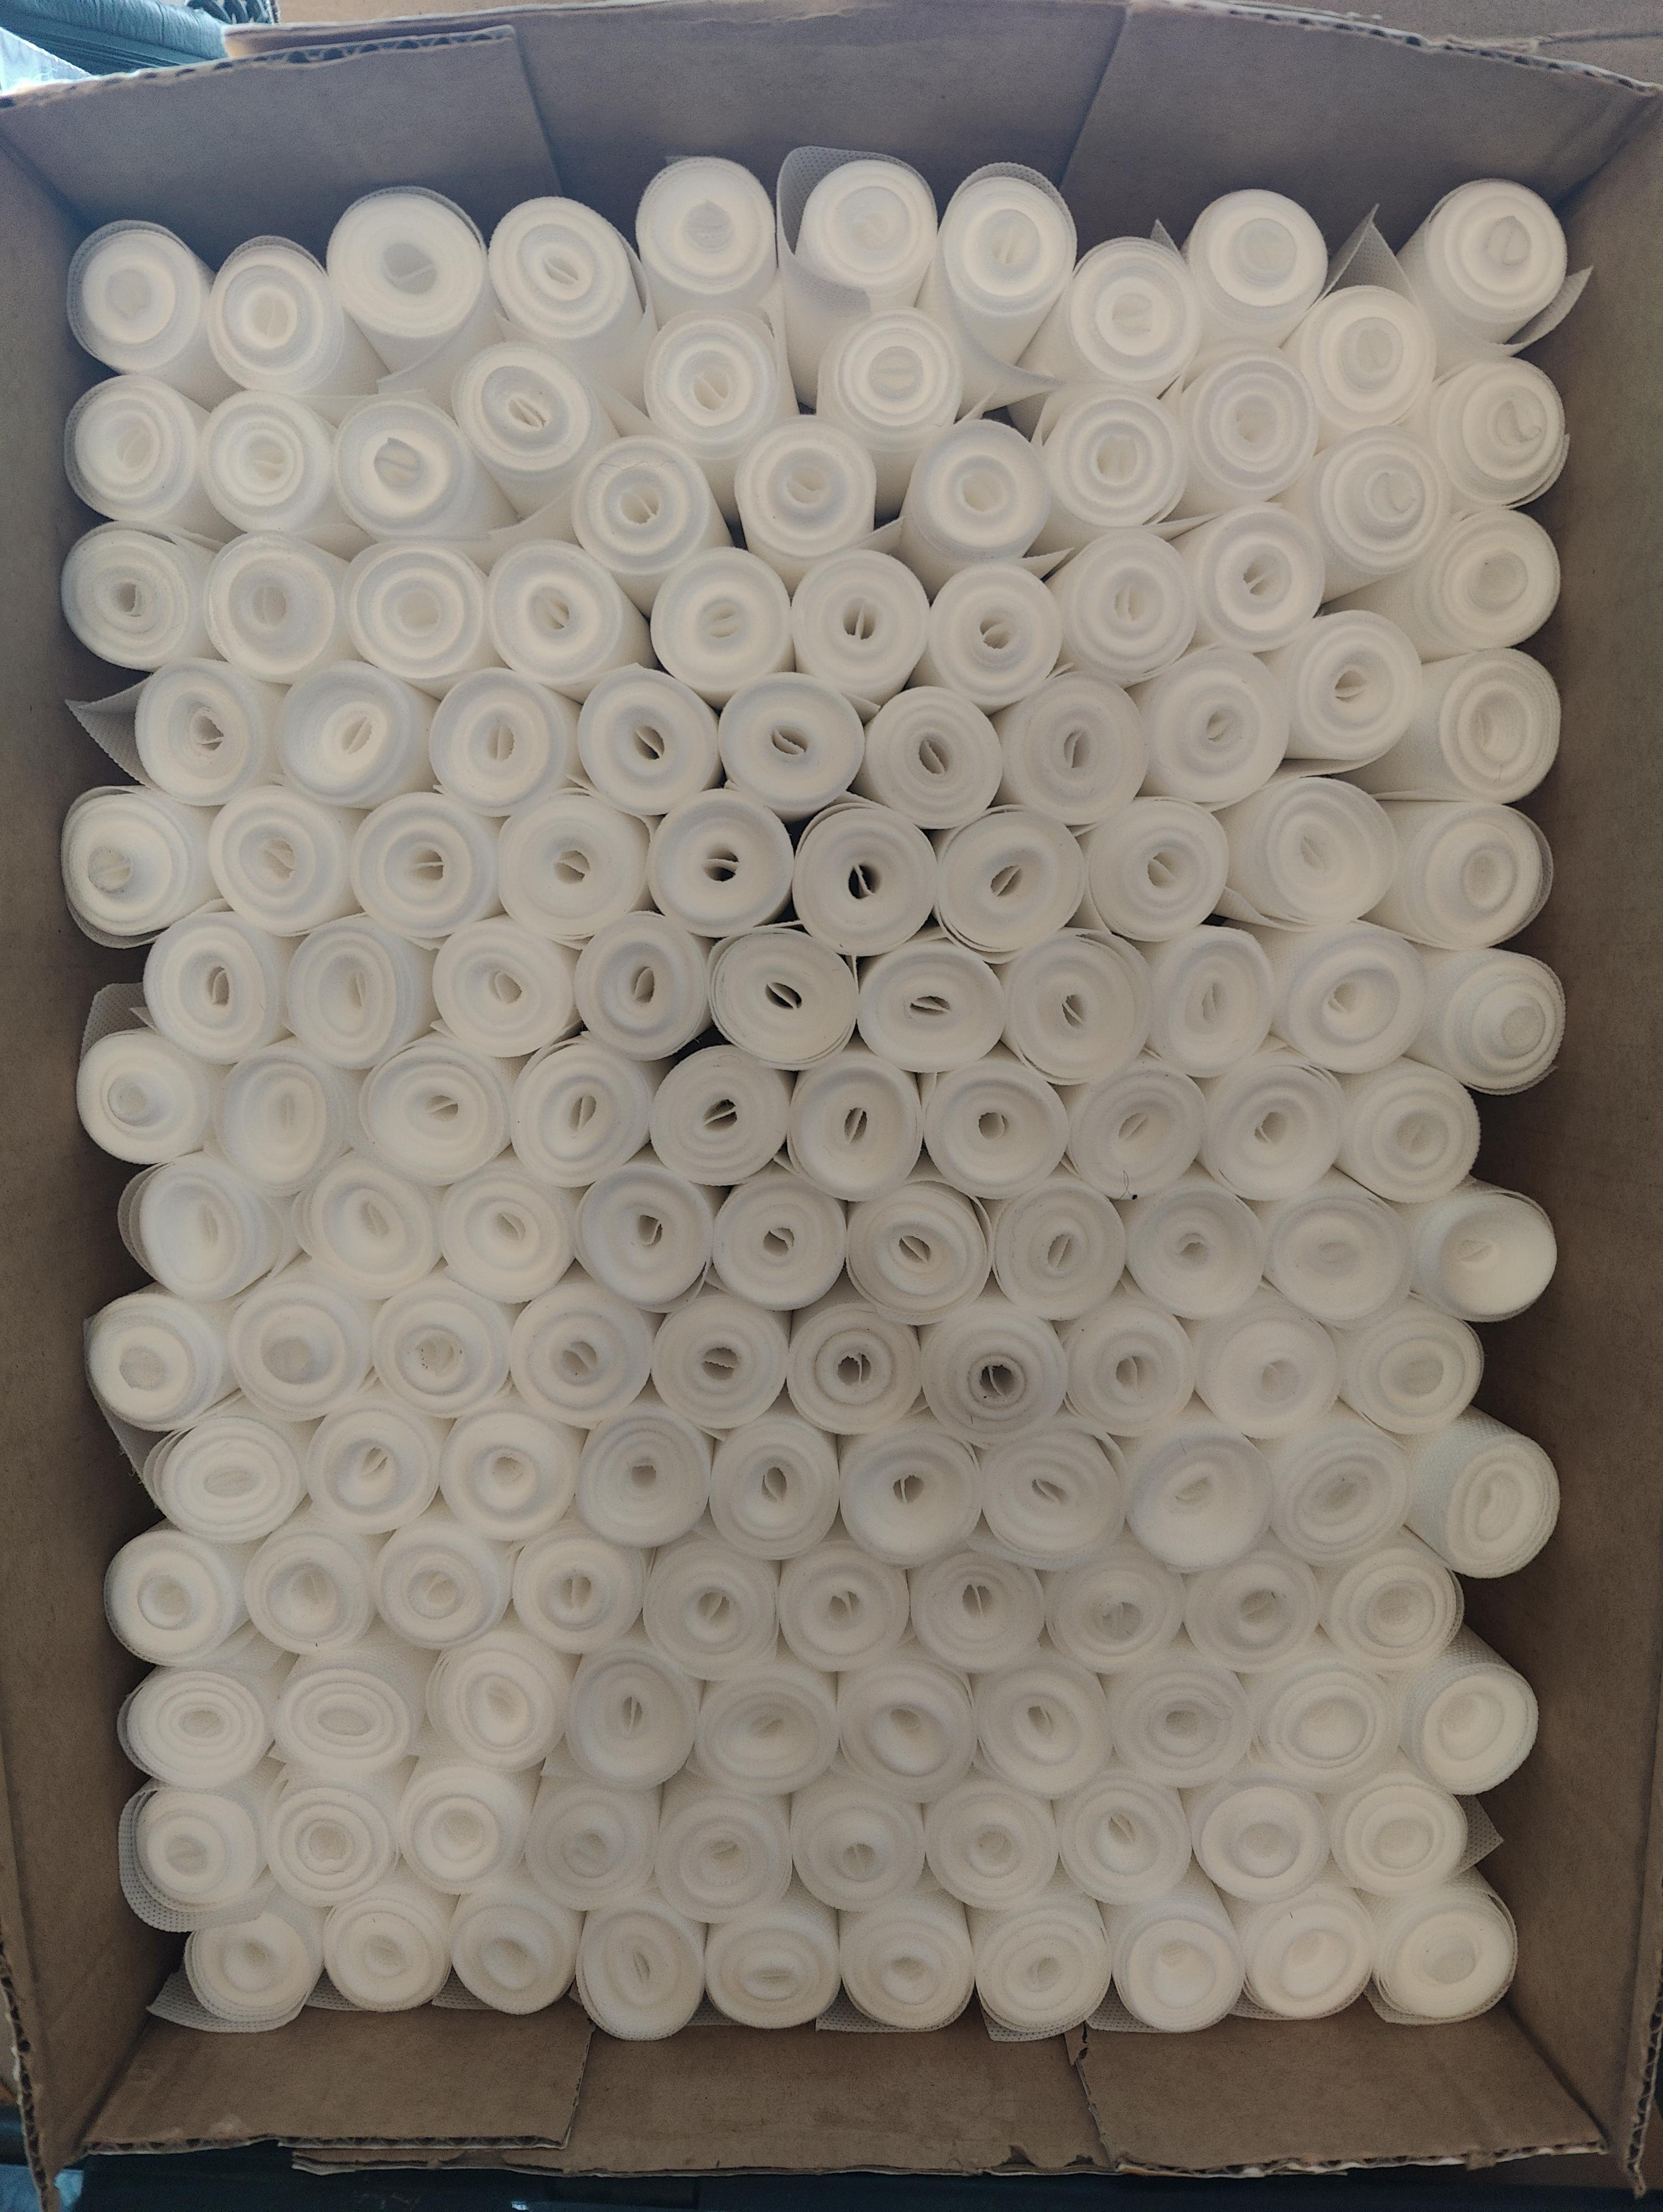roll: (323, 183, 498, 384), (1349, 643, 1562, 805), (928, 166, 1083, 388), (814, 308, 966, 501), (1371, 793, 1556, 952), (484, 190, 650, 365), (1403, 1410, 1569, 1585), (1216, 765, 1394, 928), (203, 232, 369, 405), (449, 341, 611, 517), (63, 215, 222, 395), (564, 433, 730, 605), (896, 418, 1055, 596), (631, 154, 783, 334), (1411, 175, 1570, 346), (328, 391, 501, 549), (1298, 423, 1452, 599), (59, 779, 224, 942), (1029, 381, 1188, 549), (1130, 645, 1291, 809), (1179, 183, 1333, 355), (1116, 1417, 1279, 1578), (59, 370, 217, 536), (730, 414, 882, 585), (639, 308, 790, 480), (1170, 501, 1329, 664), (1258, 1410, 1417, 1573), (1170, 348, 1322, 517), (480, 535, 641, 694), (1043, 524, 1200, 687), (491, 786, 653, 944), (1266, 917, 1429, 1073), (1270, 608, 1424, 772), (56, 519, 215, 676), (339, 536, 500, 692), (970, 1419, 1130, 1574), (1361, 1871, 1522, 2027), (571, 662, 728, 819), (915, 1288, 1073, 1445), (648, 547, 804, 706), (136, 902, 290, 1062), (1289, 281, 1441, 444), (1408, 938, 1570, 1090), (1097, 1873, 1247, 2037), (994, 926, 1149, 1083), (80, 1284, 238, 1440), (1413, 505, 1569, 662), (271, 655, 430, 809), (992, 673, 1146, 832), (645, 788, 804, 942), (124, 1144, 283, 1298), (1424, 353, 1574, 515), (1394, 1639, 1544, 1801), (791, 156, 940, 320), (1078, 791, 1235, 945), (1193, 1048, 1350, 1202), (1052, 232, 1200, 395), (346, 786, 501, 940), (505, 1033, 660, 1186), (220, 1263, 374, 1419), (831, 1419, 985, 1574), (197, 384, 349, 542), (1186, 1288, 1343, 1440), (1228, 1871, 1380, 2029), (148, 1403, 309, 1552), (201, 779, 355, 933), (786, 798, 938, 954), (566, 909, 721, 1061), (199, 529, 351, 683), (643, 1284, 797, 1436), (355, 1034, 510, 1185), (929, 804, 1085, 954), (645, 1038, 802, 1186), (968, 1884, 1116, 2041), (70, 1019, 222, 1171), (571, 1158, 725, 1309), (421, 1625, 575, 1775), (919, 556, 1067, 711), (784, 549, 931, 706), (1256, 1181, 1413, 1328), (505, 1274, 655, 1426), (569, 1403, 720, 1555), (914, 1052, 1067, 1200), (424, 907, 580, 1054), (1135, 919, 1282, 1075), (1408, 1181, 1567, 1324), (115, 1656, 278, 1796), (781, 1289, 931, 1440), (699, 1412, 847, 1564), (100, 1520, 252, 1669), (557, 1642, 709, 1791), (1249, 1653, 1403, 1800), (423, 664, 571, 814), (278, 912, 426, 1062), (1331, 1054, 1481, 1202), (365, 1270, 515, 1419), (1335, 1296, 1487, 1443), (833, 1885, 980, 2037), (704, 923, 859, 1066), (639, 1529, 788, 1677), (1064, 1055, 1214, 1202), (854, 680, 1003, 826), (985, 1176, 1134, 1323), (297, 1394, 444, 1543), (784, 1765, 931, 1913), (573, 1896, 720, 2044), (711, 669, 861, 814), (129, 653, 274, 804), (840, 1178, 990, 1323), (1118, 1178, 1268, 1323), (433, 1400, 583, 1545), (650, 1777, 800, 1922), (1101, 1651, 1252, 1794), (966, 1655, 1113, 1801), (831, 1648, 978, 1794), (699, 1891, 845, 2037), (702, 1167, 851, 1312), (1048, 1765, 1197, 1910), (917, 1772, 1066, 1917), (211, 1041, 355, 1192), (1038, 1539, 1190, 1681), (852, 935, 1004, 1076), (903, 1536, 1053, 1677), (515, 1772, 660, 1917), (239, 1518, 386, 1662), (390, 1754, 536, 1897), (1059, 1293, 1200, 1441), (1317, 1532, 1466, 1674), (430, 1160, 575, 1303), (367, 1513, 514, 1655), (442, 1877, 583, 2023), (1177, 1543, 1328, 1681), (266, 1649, 419, 1784), (505, 1517, 652, 1656), (688, 1663, 838, 1800), (299, 1148, 440, 1291), (770, 1536, 915, 1676), (1186, 1775, 1335, 1911), (314, 1873, 456, 2015), (126, 1777, 269, 1917), (1324, 1766, 1471, 1901), (262, 1773, 404, 1910), (178, 1897, 325, 2029), (788, 1057, 924, 1192)
